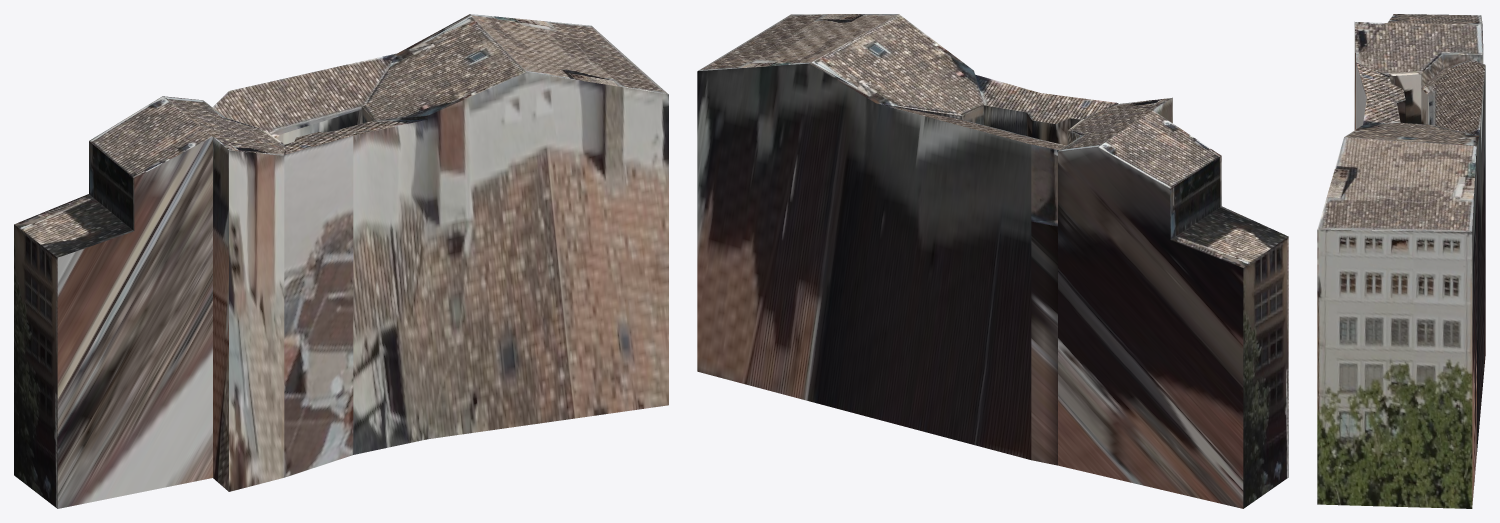
The picture shows the model from 3 angles, left to right: view 1: azimuth 30°, elevation 25°; view 2: azimuth 150°, elevation 25°; view 3: azimuth 270°, elevation 25°; orthographic projection. The views are drawn at different scales.
Visible parts, largest first — view 1: Z_UP; view 2: Z_UP; view 3: Z_UP.
Part boxes in pixels (bbox=[...]): Z_UP: bbox=[14, 14, 668, 508]; Z_UP: bbox=[697, 14, 1288, 508]; Z_UP: bbox=[1317, 14, 1485, 508].
Size of the model in its own units: 42.43 by 24.91 by 12.15.
2 materials, 1 textured.
